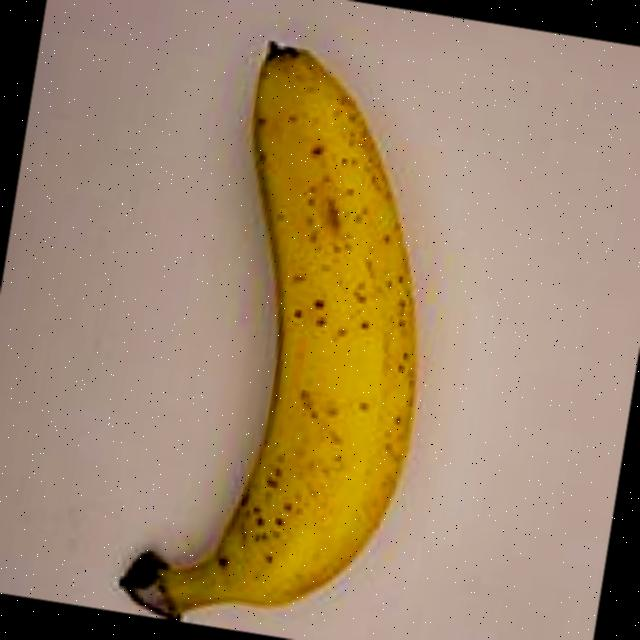Overripe: (59, 0, 510, 640)
